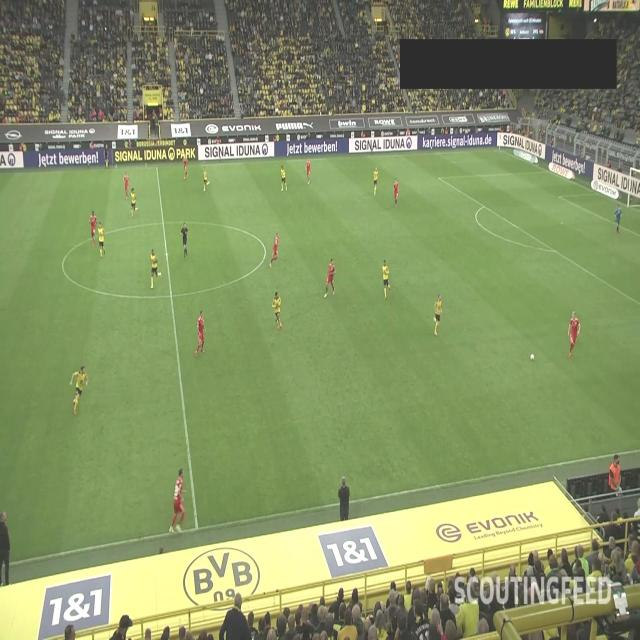goalkeeper: (614, 203, 622, 234)
player: (168, 468, 186, 534), (70, 366, 88, 414), (568, 310, 580, 360), (194, 309, 206, 357), (324, 258, 336, 299), (149, 249, 161, 289), (268, 232, 280, 268), (272, 291, 282, 331), (433, 293, 442, 337), (382, 258, 390, 300), (98, 222, 106, 258), (89, 210, 97, 246), (130, 188, 138, 218), (280, 164, 288, 191), (373, 165, 379, 196), (123, 171, 129, 200), (393, 178, 399, 207), (306, 157, 312, 185), (182, 154, 188, 180), (203, 166, 209, 192)
referee: (180, 221, 189, 259)
